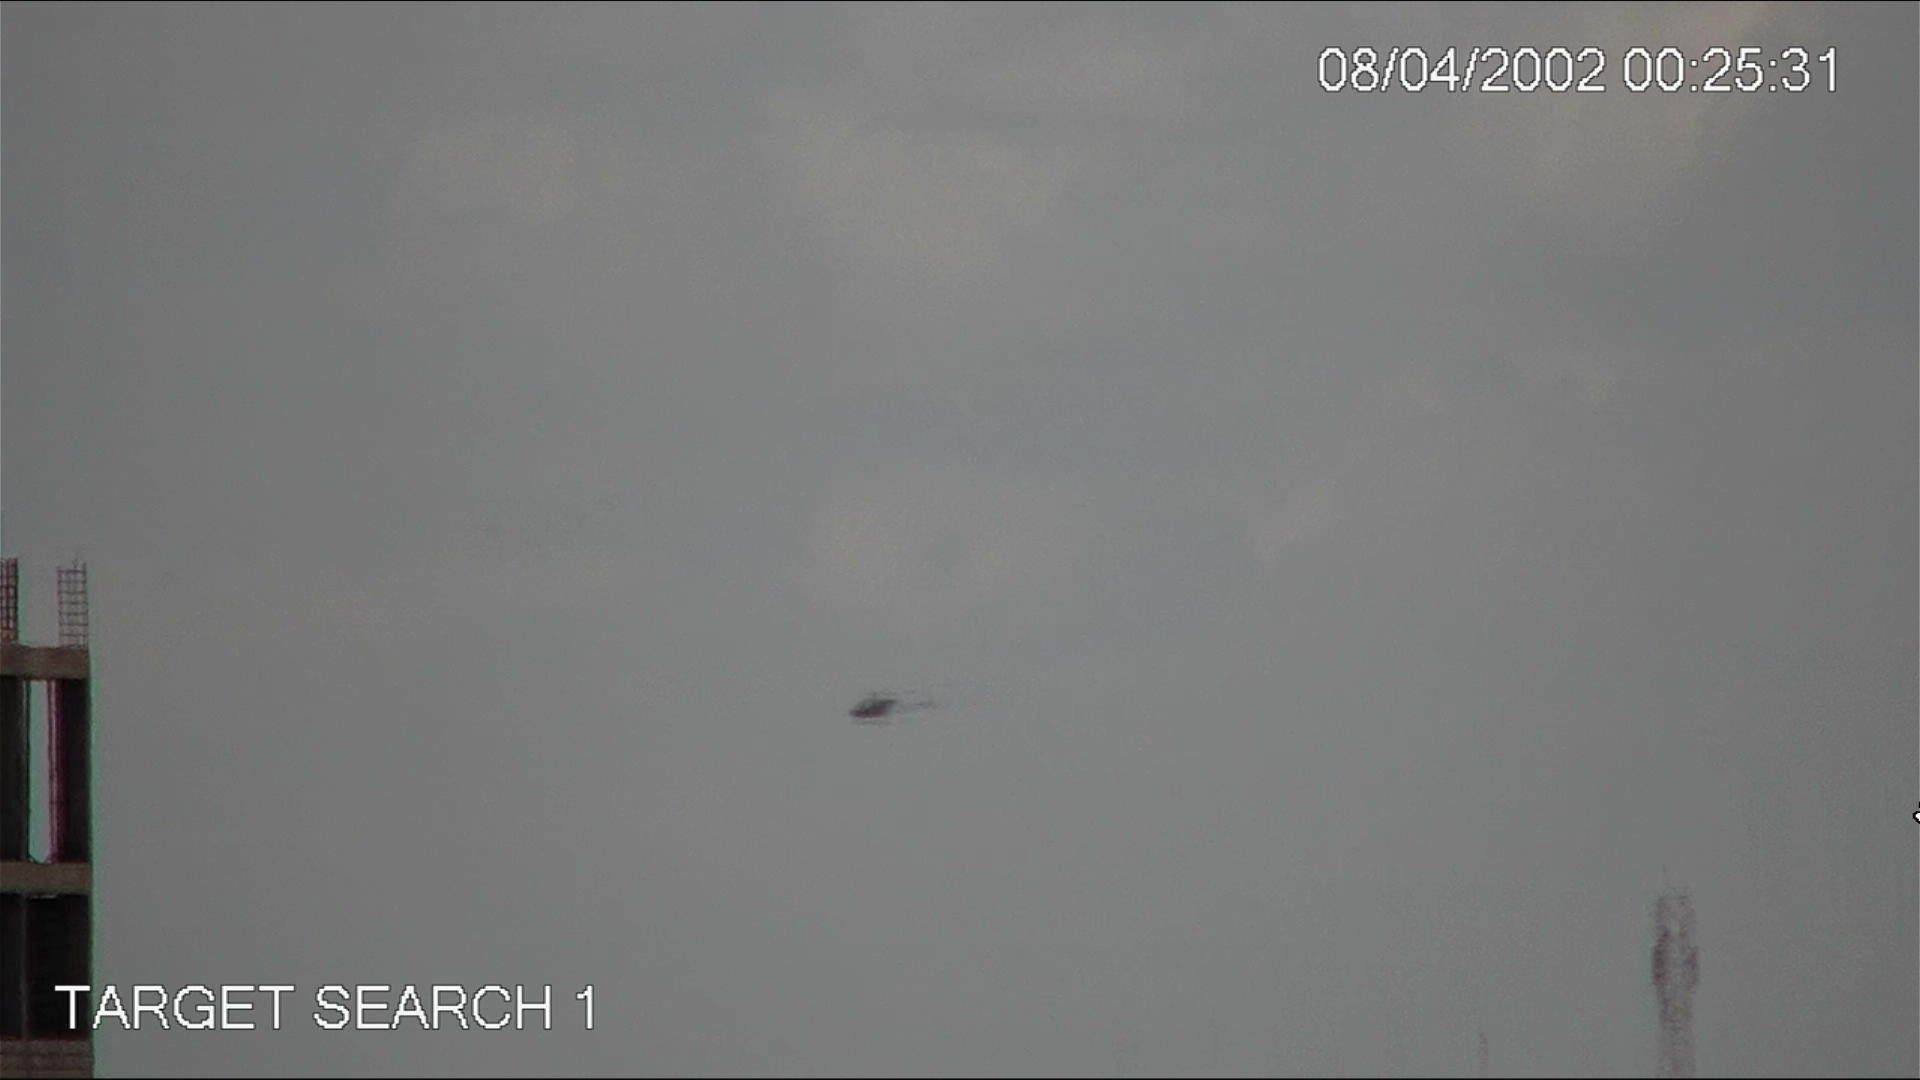SU_30: (844, 682, 944, 728)
